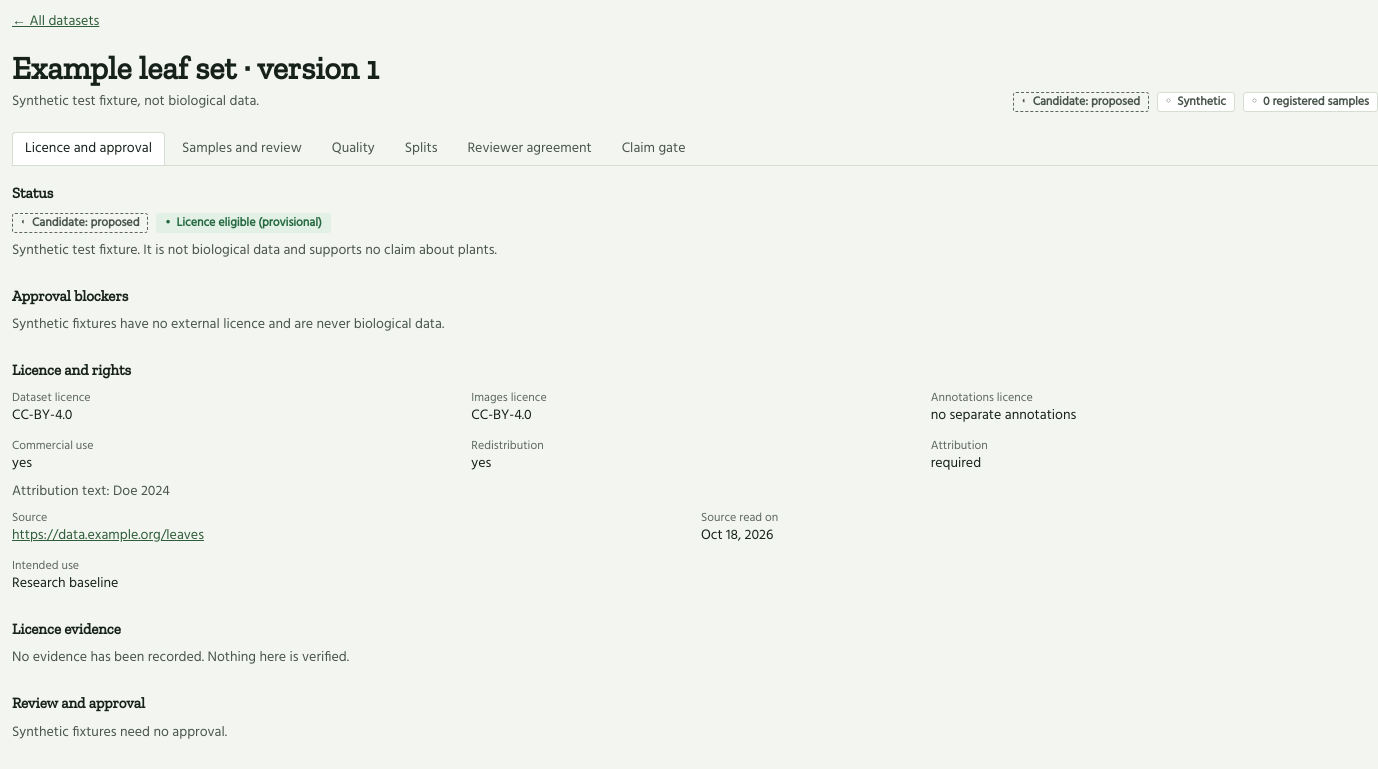
Test case: dataset detail: samples and label review › shows an empty state, and an honest one for real datasets that are not approved
This screenshot has width=1378, height=769.
Click the tab "Samples and review" at x=242, y=148, box [169,132,315,165]
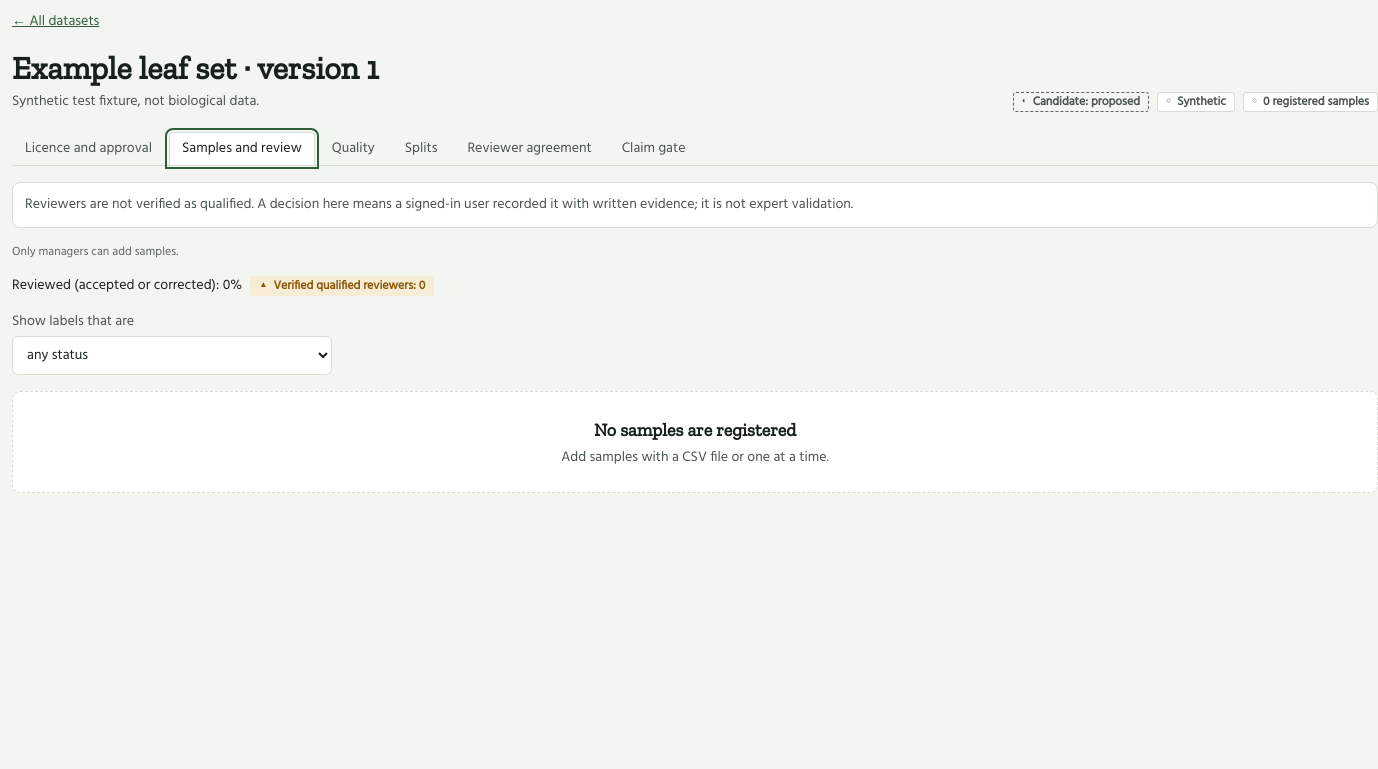
Result: the text "No samples are registered" is shown at [594,419,796,441]
